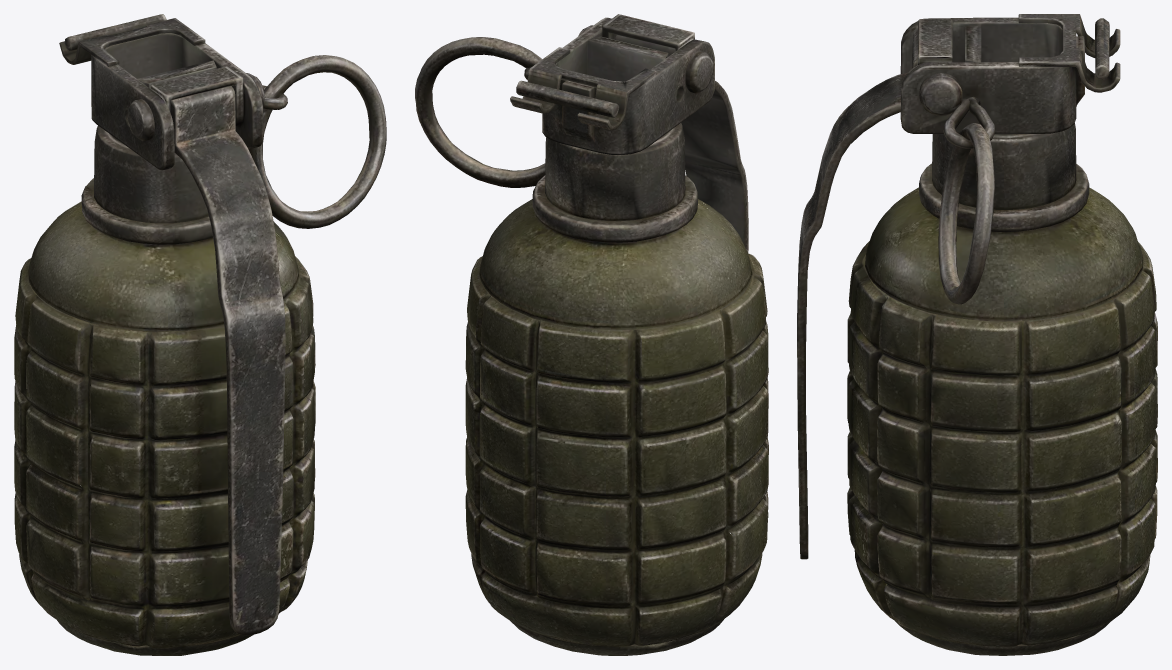
File: grenade.glb
3 renders of one model, left to right at view 1: azimuth 30°, elevation 25°; view 2: azimuth 150°, elevation 25°; view 3: azimuth 270°, elevation 25°, orthographic. The views are drawn at different scales.
Parts seen in each view (by area): view 1: c58d5296_dea7_4334_942c_01dda15c7331; view 2: c58d5296_dea7_4334_942c_01dda15c7331; view 3: c58d5296_dea7_4334_942c_01dda15c7331.
Part boxes in pixels (box(x1,y1,x2,y2)): c58d5296_dea7_4334_942c_01dda15c7331: box(14, 14, 386, 655); c58d5296_dea7_4334_942c_01dda15c7331: box(415, 14, 768, 655); c58d5296_dea7_4334_942c_01dda15c7331: box(797, 14, 1157, 655).
Bounding box in the file's own units: 0.0695 × 0.1099 × 0.0619.
Materials: 1 (1 with a texture image).
